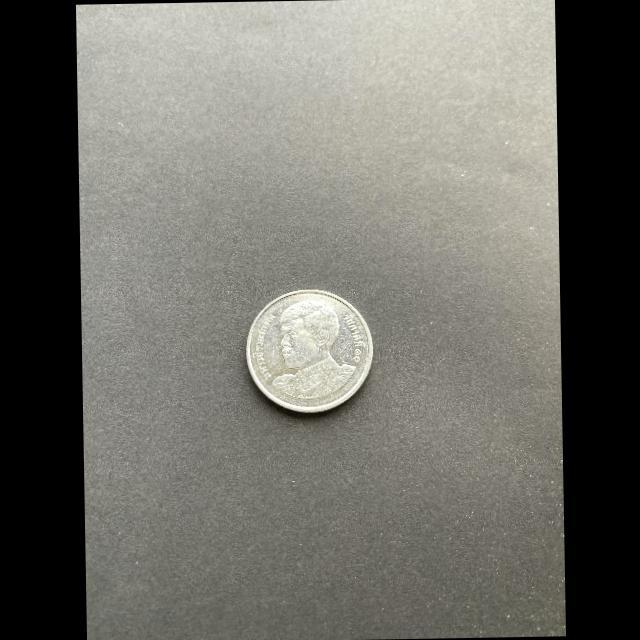1 Bath: (243, 285, 378, 420)
